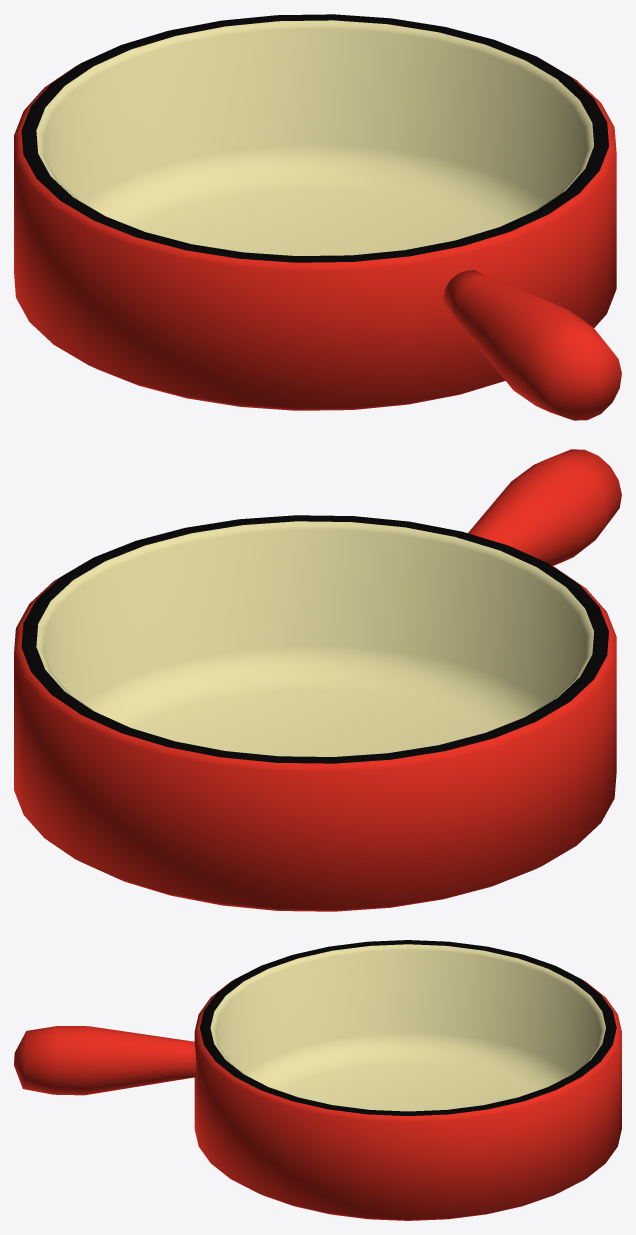
Rendered from OriginalPot.fbx.
3 renders of one model, top to bottom at view 1: azimuth 30°, elevation 25°; view 2: azimuth 150°, elevation 25°; view 3: azimuth 270°, elevation 25°, orthographic. The views are drawn at different scales.
Visible parts, largest first — view 1: Pot, Handle; view 2: Pot, Handle; view 3: Pot, Handle.
Boxes of the visible parts, x1,y1,x2,y2 form: Pot: [14, 14, 616, 410]; Handle: [443, 270, 621, 420]; Pot: [14, 515, 616, 911]; Handle: [468, 449, 621, 565]; Pot: [194, 940, 621, 1220]; Handle: [14, 1026, 196, 1095].
Size of the model in its own units: 200 by 57.77 by 284.
